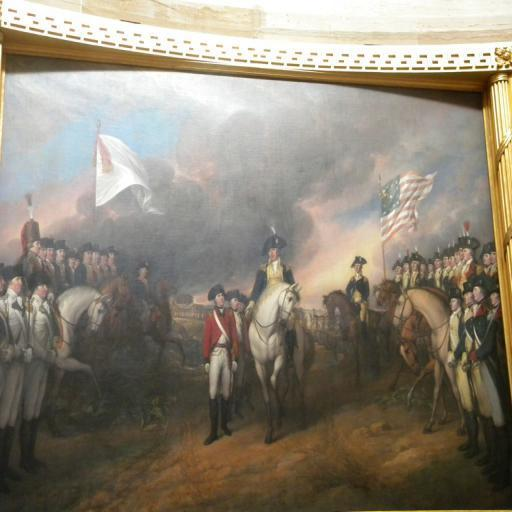horse: (50, 274, 188, 438), (371, 278, 467, 438), (250, 279, 314, 445), (322, 290, 382, 392)
